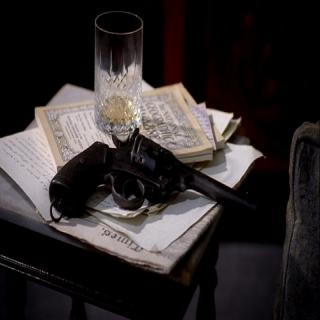gun: (44, 125, 261, 240)
